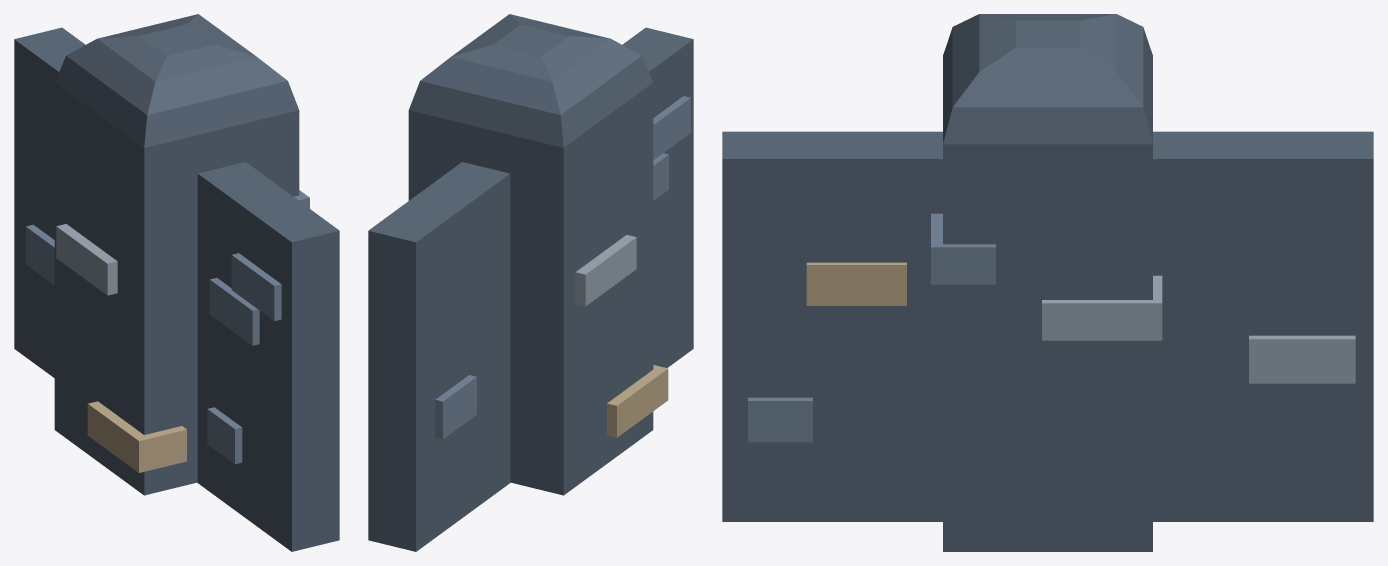
Rendered from wall3.fbx.
3 views of the same model, side by side, from view 1: azimuth 30°, elevation 25°; view 2: azimuth 150°, elevation 25°; view 3: azimuth 270°, elevation 25° (orthographic). The views are drawn at different scales.
Parts seen in each view (by area): view 1: wall3; view 2: wall3; view 3: wall3.
Part boxes in pixels (<box>): wall3: <box>14,14,339,551</box>; wall3: <box>368,14,693,551</box>; wall3: <box>722,14,1373,551</box>.
Bounding box in the file's own units: 71.18 × 161 × 200.
